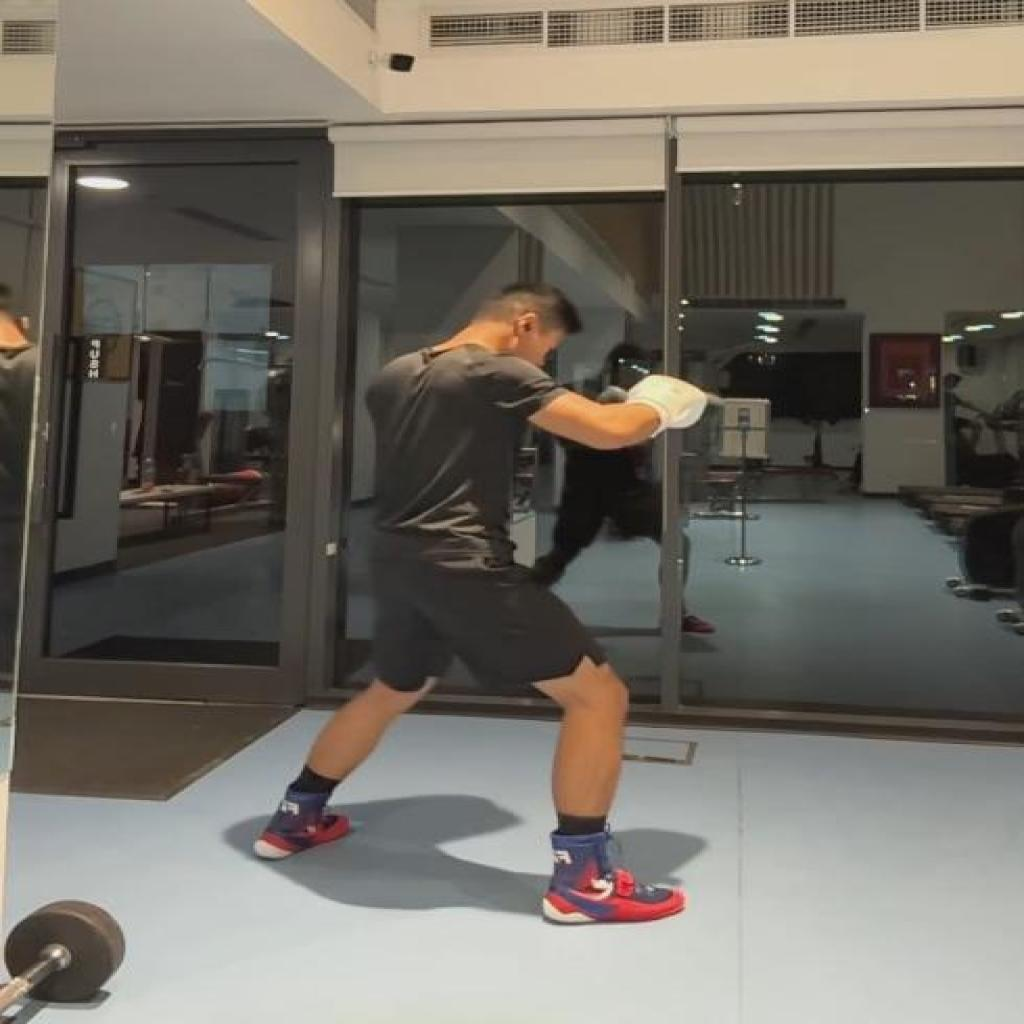hook: (244, 274, 717, 928)
